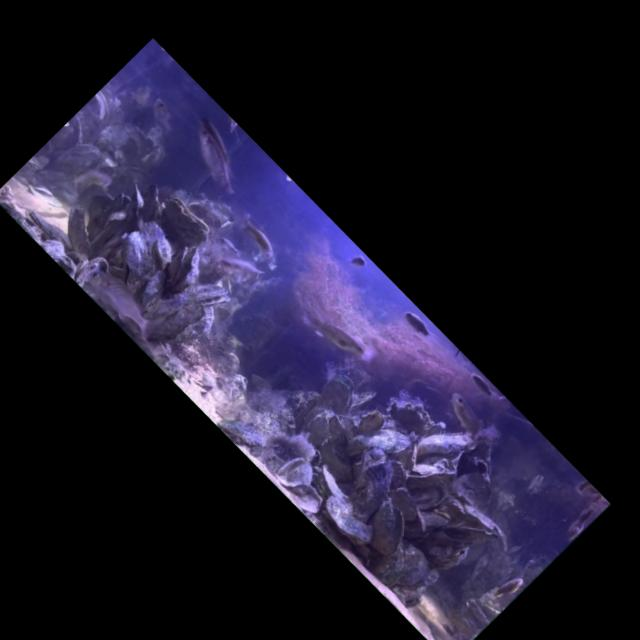Oyster-Closed: (92, 210, 187, 312), (325, 436, 415, 530), (339, 406, 415, 485), (410, 408, 482, 484), (313, 488, 381, 555), (150, 292, 211, 358), (400, 445, 460, 508), (378, 536, 438, 598), (20, 201, 81, 260), (133, 280, 190, 341), (123, 265, 178, 324), (308, 462, 365, 518), (367, 536, 421, 593), (309, 437, 361, 489), (387, 426, 436, 477), (114, 181, 156, 225)
Oyster-Indeterminate: (41, 131, 108, 203), (441, 485, 507, 549), (65, 182, 127, 248), (49, 199, 110, 260), (442, 506, 501, 566), (168, 301, 223, 362), (382, 389, 439, 447), (42, 111, 93, 166), (126, 179, 177, 232), (405, 467, 455, 520), (372, 452, 418, 500), (183, 190, 229, 237), (284, 476, 330, 522), (382, 481, 427, 527), (70, 250, 114, 296), (413, 497, 455, 540), (351, 402, 390, 444), (318, 412, 357, 450)
Oyster-Open: (352, 490, 424, 565), (152, 190, 217, 256), (156, 239, 215, 301), (310, 364, 369, 425), (271, 449, 322, 501), (185, 270, 235, 321), (79, 88, 121, 132)
